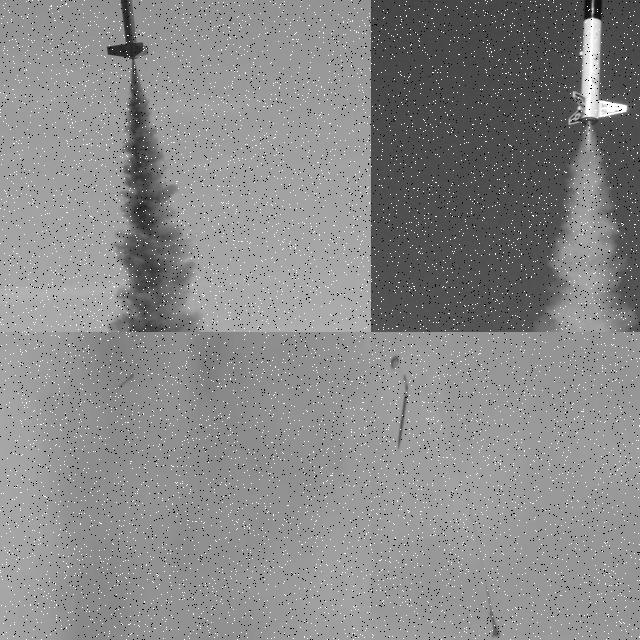Rocket: (565, 0, 628, 129), (105, 0, 150, 59), (484, 600, 500, 638), (117, 372, 134, 389)
